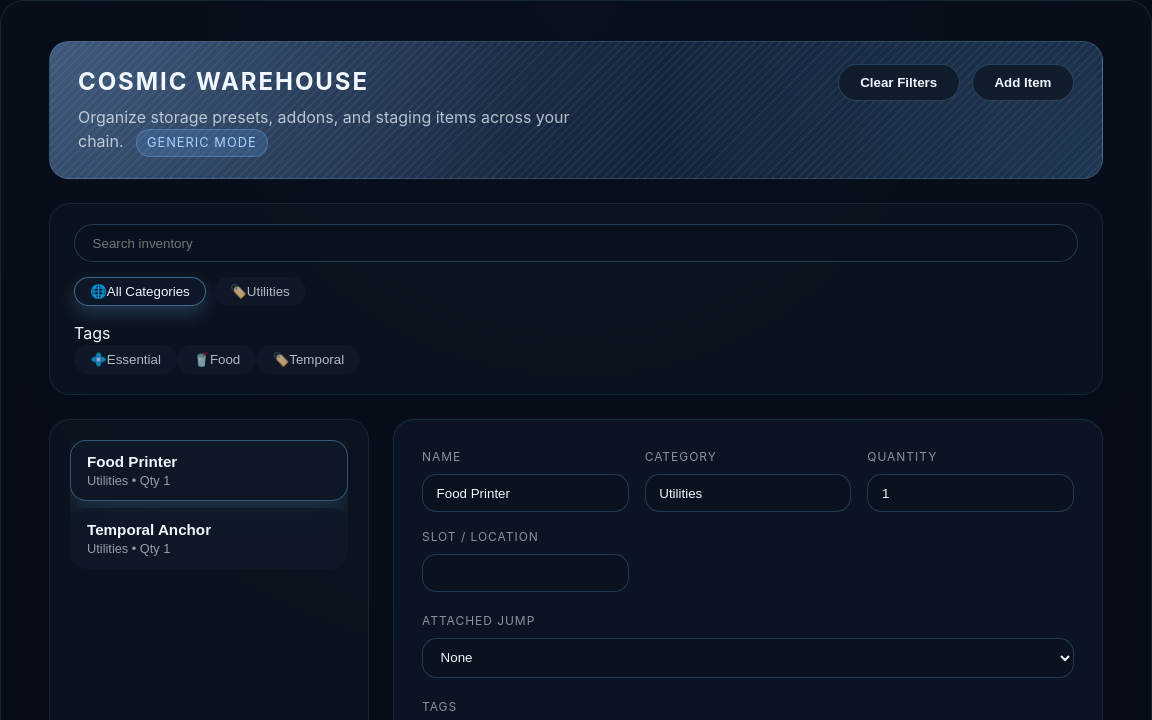
Test: CosmicWarehouse › filters the visible list when tag chips are toggled
The image size is (1152, 720).
Expected: the text "Food Printer" is shown, 87,454 -> 177,470
Expected: the text "Temporal Anchor" is shown, 87,522 -> 211,538
Step 1. Click the button "🥤Food" → (217, 360), box 177,345 -> 256,374
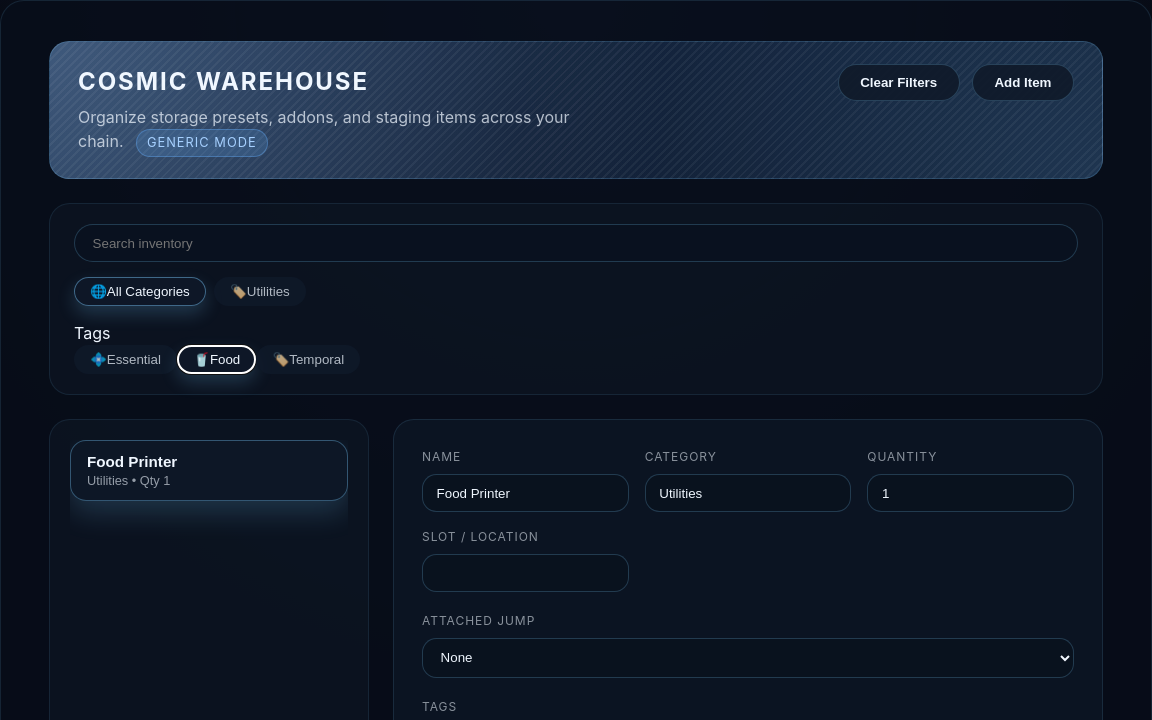
Expected: the text "Food Printer" is shown, 87,454 -> 177,470
Expected: the button "Temporal Anchor" is gone
Step 2. Click the button "🥤Food" → (217, 360), box 177,345 -> 256,374
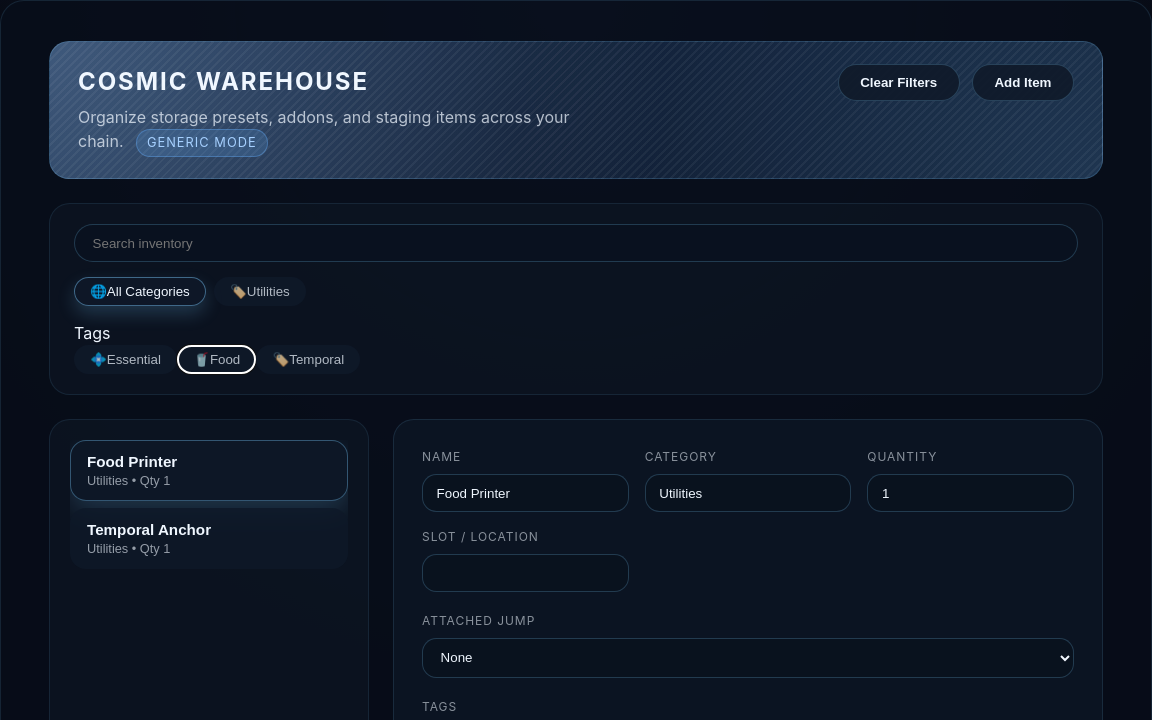
Expected: the text "Temporal Anchor" is shown, 87,522 -> 211,538
